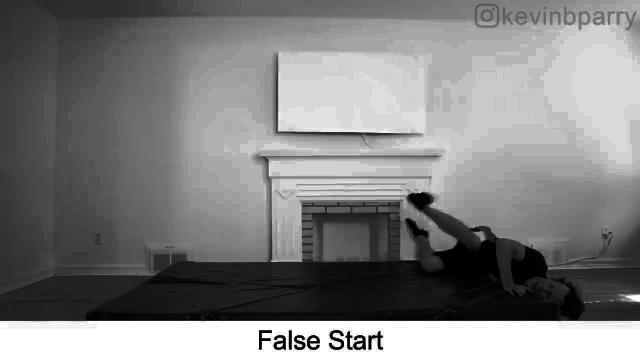jatuh: (382, 173, 584, 324)
